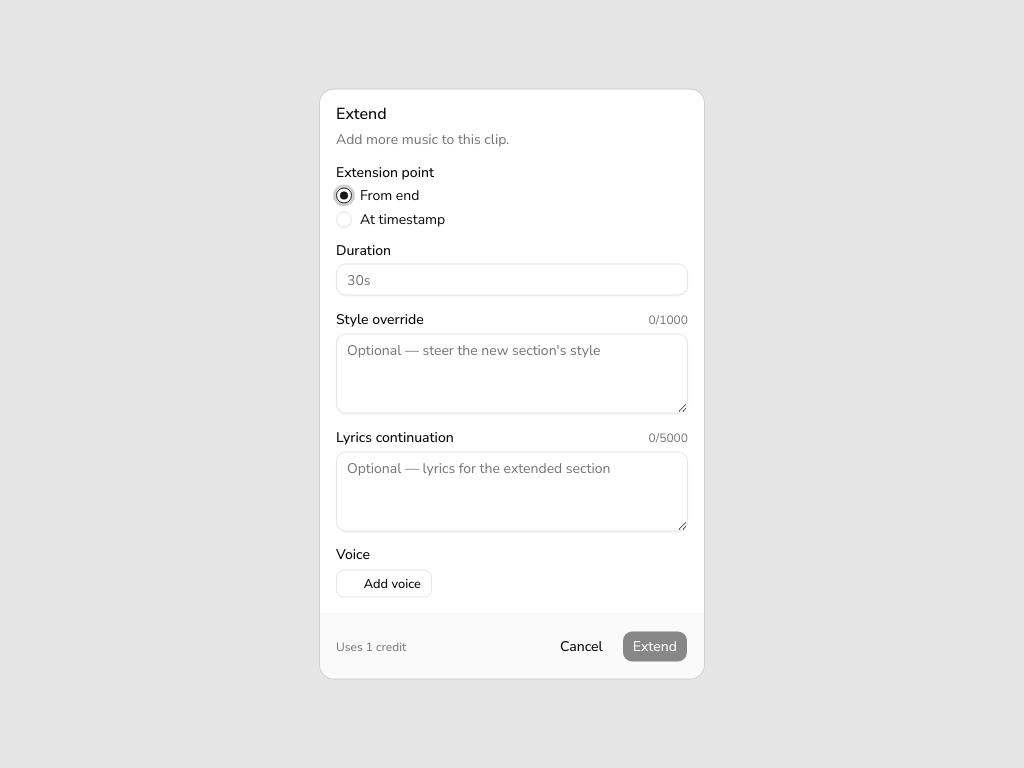
ExtendModal › submits the extend payload from the end and reaches success
Type "45s" into the field labelled "Duration" at {"x": 512, "y": 280}, box [336,264,688,296]
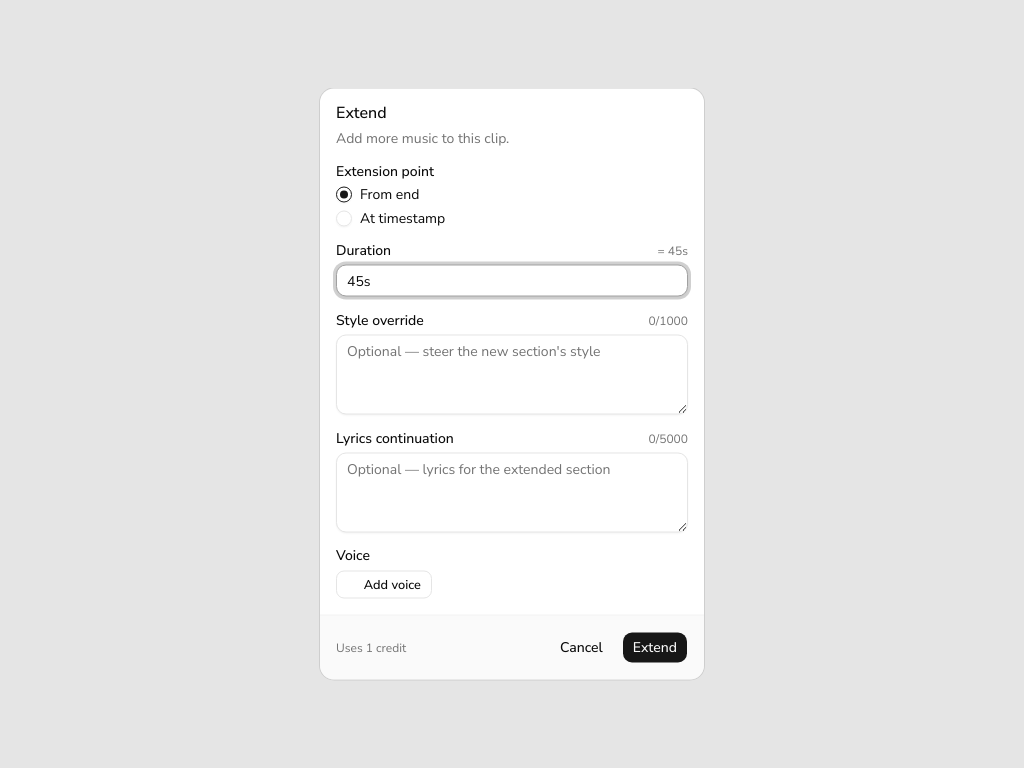
Click the button "Extend" at {"x": 655, "y": 648}, box [622,632,688,664]
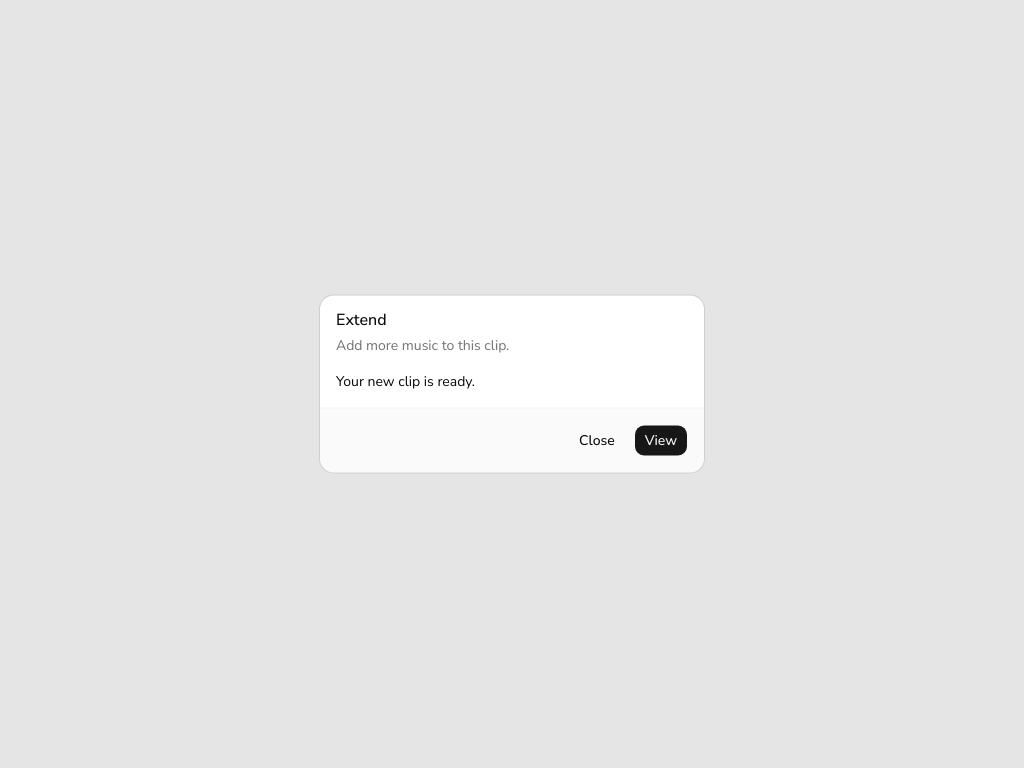
Expected: the text "Your new clip is ready." is shown, [336,372,475,390]
